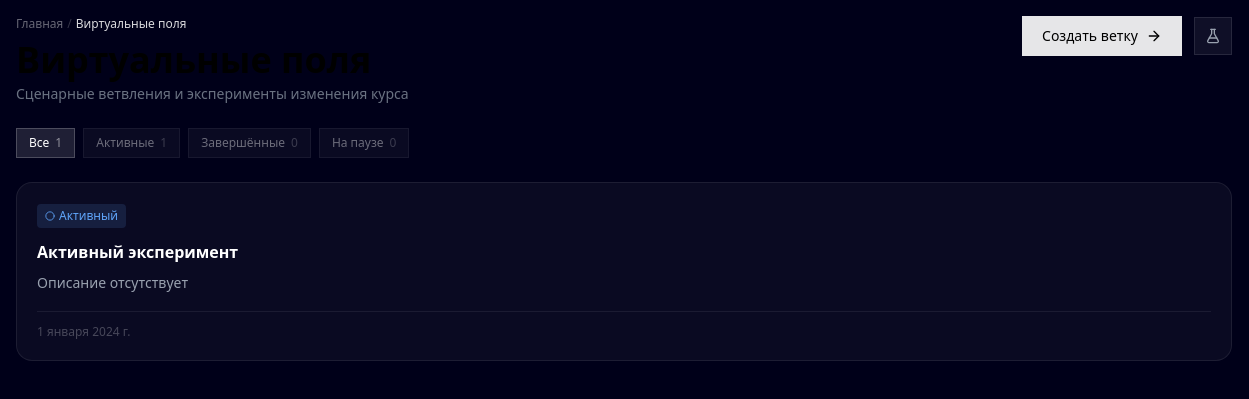
Test: ExperimentsPage › показывает "Нет экспериментов в этой категории" при пустом фильтре
Expected: the heading "Активный эксперимент" is shown, [37, 241, 238, 263]
Click the button "Завершённые0".
click(250, 143)  # box [188, 128, 311, 158]
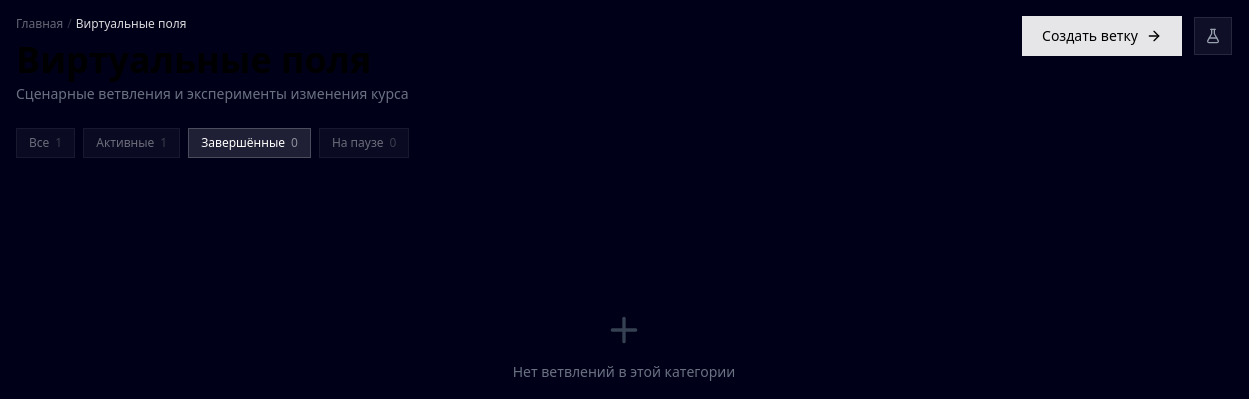
Expected: the text "Нет ветвлений в этой категории" is shown, [513, 362, 735, 382]
